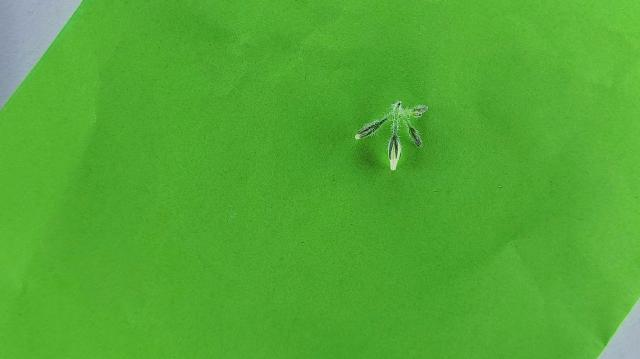Flower Bud: (355, 118, 387, 140), (389, 133, 401, 161), (404, 104, 429, 117), (409, 125, 423, 147), (389, 152, 399, 171)
